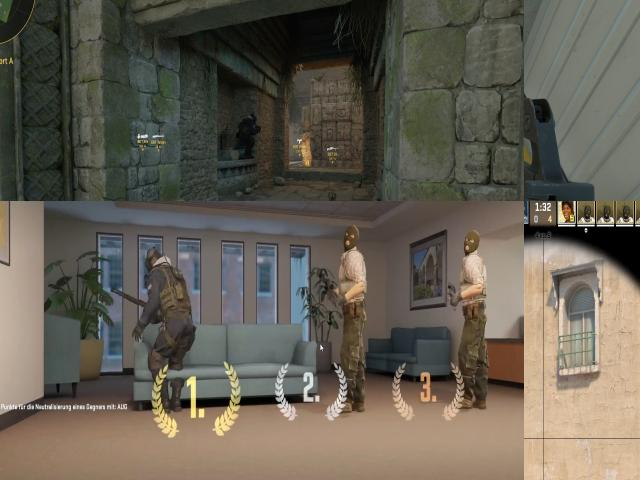CT: (238, 111, 262, 161)
CT-Head: (246, 113, 256, 126)
T: (456, 228, 491, 323), (335, 224, 371, 316)
T-Head: (338, 222, 364, 255), (460, 228, 485, 262)
